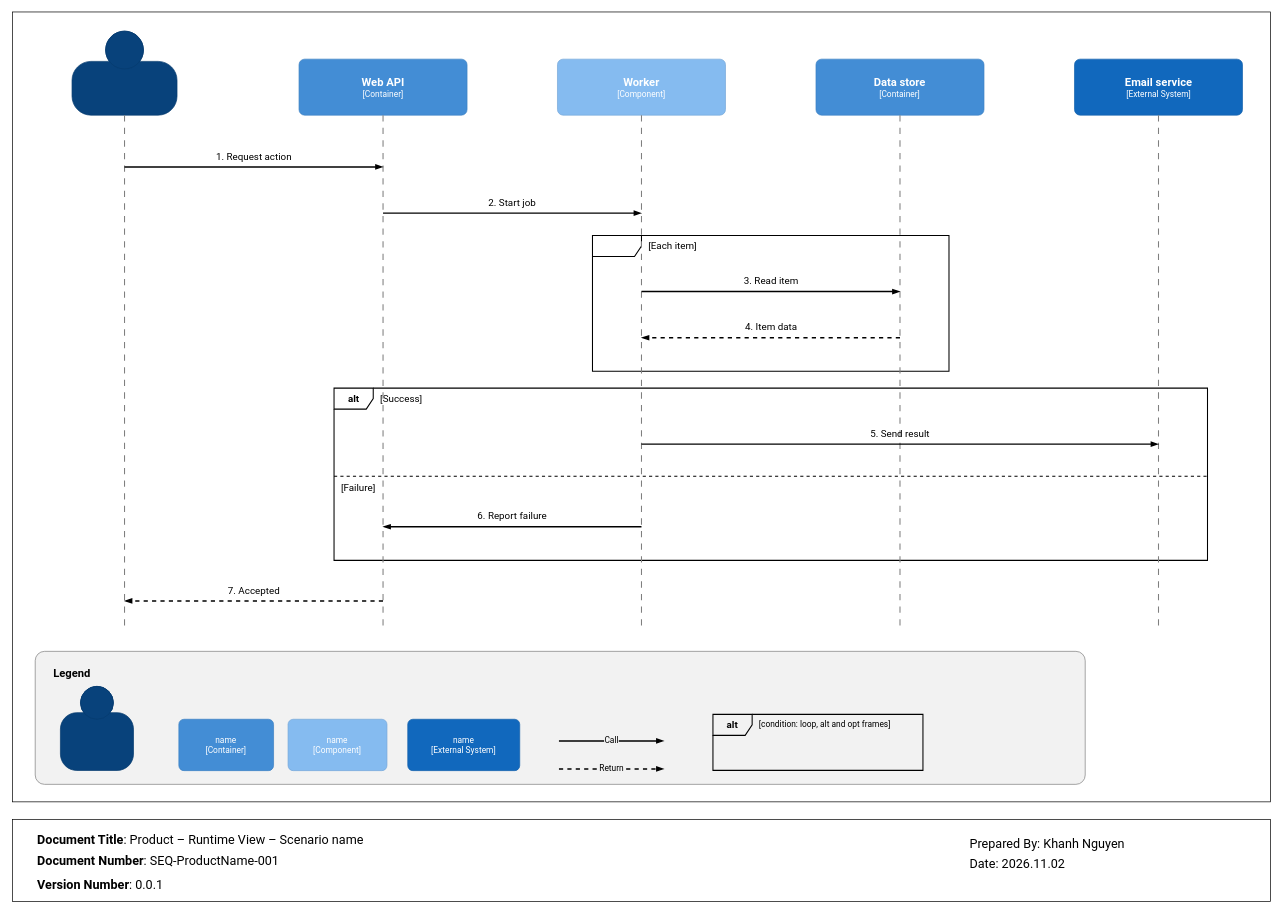
The diagram is 1283 pixels wide and 914 high, and some of its shapes have lost their labels. Here are the shapes that lost their labels. From the top down, the box of each, then its label:
(71, 30, 177, 115): User [Person]
(592, 235, 949, 372): loop
(60, 686, 133, 770): name [Person]
